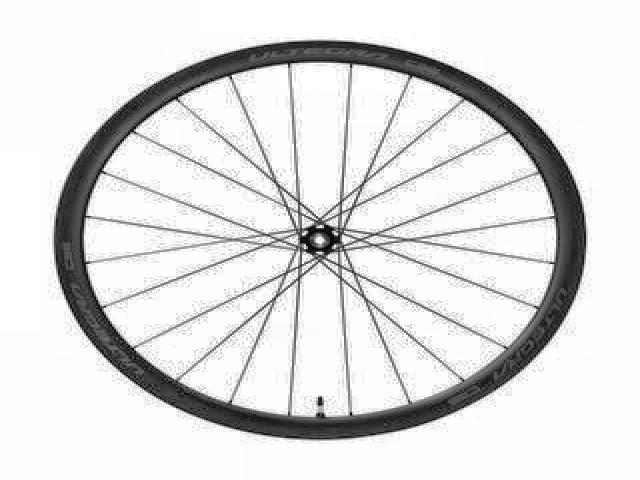wheel: (48, 33, 593, 446)
